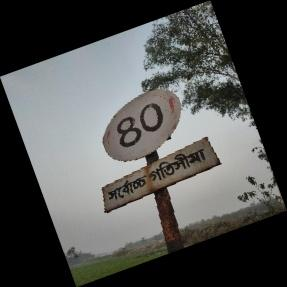Speed-limit: (100, 86, 220, 215)
